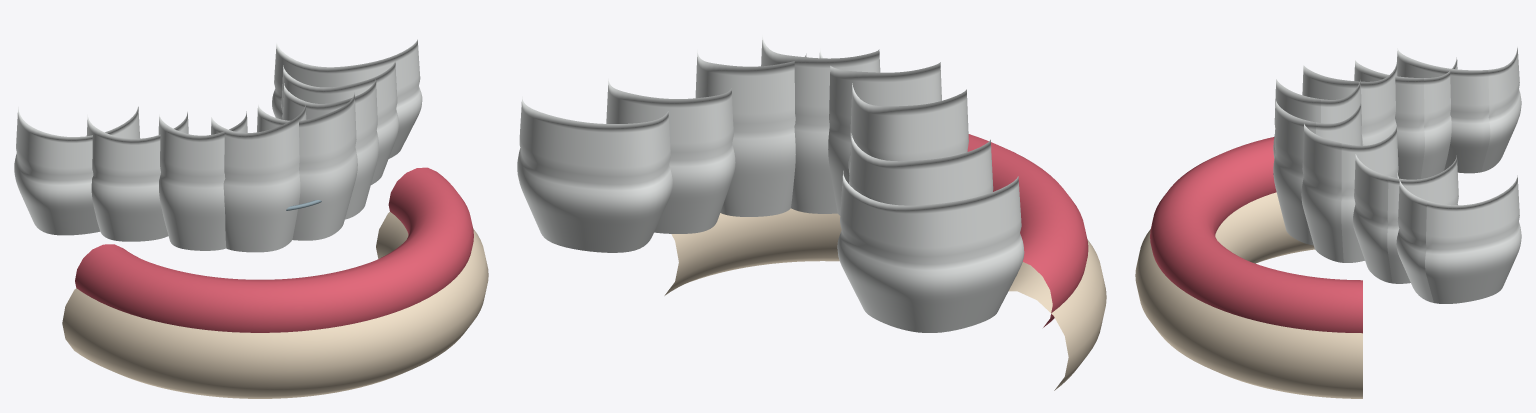
The model's file is orthodontic-braces-arch.glb.
3 views of the same model, side by side, from view 1: azimuth 30°, elevation 25°; view 2: azimuth 150°, elevation 25°; view 3: azimuth 270°, elevation 25° (orthographic). The views are drawn at different scales.
Parts seen in each view (by area): view 1: Group_Dental_Arch, Mesh_Arch_Tooth_4, Mesh_Arch_Tooth_1, Mesh_Arch_Tooth_3, Mesh_Arch_Tooth_2, Mesh_Arch_Tooth_5, Mesh_Arch_Tooth_8, Mesh_Arch_Tooth_6, Mesh_Arch_Tooth_7; view 2: Mesh_Arch_Tooth_1, Group_Dental_Arch, Mesh_Arch_Tooth_8, Mesh_Arch_Tooth_6, Mesh_Arch_Tooth_7, Mesh_Arch_Tooth_5, Mesh_Arch_Tooth_2, Mesh_Arch_Tooth_3, Mesh_Arch_Tooth_4; view 3: Group_Dental_Arch, Mesh_Arch_Tooth_8, Mesh_Arch_Tooth_1, Mesh_Arch_Tooth_6, Mesh_Arch_Tooth_7, Mesh_Arch_Tooth_2, Mesh_Arch_Tooth_5, Mesh_Arch_Tooth_3, Mesh_Arch_Tooth_4.
Boxes of the visible parts, x1,y1,x2,y2 form: Group_Dental_Arch: [62, 167, 488, 398]; Mesh_Arch_Tooth_4: [211, 105, 306, 252]; Mesh_Arch_Tooth_1: [14, 106, 140, 235]; Mesh_Arch_Tooth_3: [158, 111, 247, 250]; Mesh_Arch_Tooth_2: [86, 112, 188, 241]; Mesh_Arch_Tooth_5: [257, 92, 357, 240]; Mesh_Arch_Tooth_8: [272, 39, 422, 158]; Mesh_Arch_Tooth_6: [282, 79, 378, 219]; Mesh_Arch_Tooth_7: [281, 61, 398, 184]; Mesh_Arch_Tooth_1: [837, 171, 1024, 332]; Group_Dental_Arch: [664, 134, 1106, 390]; Mesh_Arch_Tooth_8: [517, 96, 672, 252]; Mesh_Arch_Tooth_6: [695, 49, 806, 216]; Mesh_Arch_Tooth_7: [606, 78, 735, 233]; Mesh_Arch_Tooth_5: [761, 35, 880, 213]; Mesh_Arch_Tooth_2: [849, 133, 993, 205]; Mesh_Arch_Tooth_3: [848, 83, 968, 174]; Mesh_Arch_Tooth_4: [819, 48, 941, 215]; Group_Dental_Arch: [1135, 137, 1362, 398]; Mesh_Arch_Tooth_8: [1396, 173, 1521, 303]; Mesh_Arch_Tooth_1: [1397, 47, 1521, 173]; Mesh_Arch_Tooth_6: [1301, 124, 1398, 262]; Mesh_Arch_Tooth_7: [1353, 154, 1458, 283]; Mesh_Arch_Tooth_2: [1354, 57, 1457, 179]; Mesh_Arch_Tooth_5: [1273, 101, 1362, 245]; Mesh_Arch_Tooth_3: [1302, 62, 1397, 145]; Mesh_Arch_Tooth_4: [1273, 79, 1363, 158].
Size of the model in its own units: 5.3 by 2.96 by 4.49.
